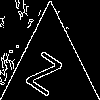Z: (25, 42, 68, 97)
